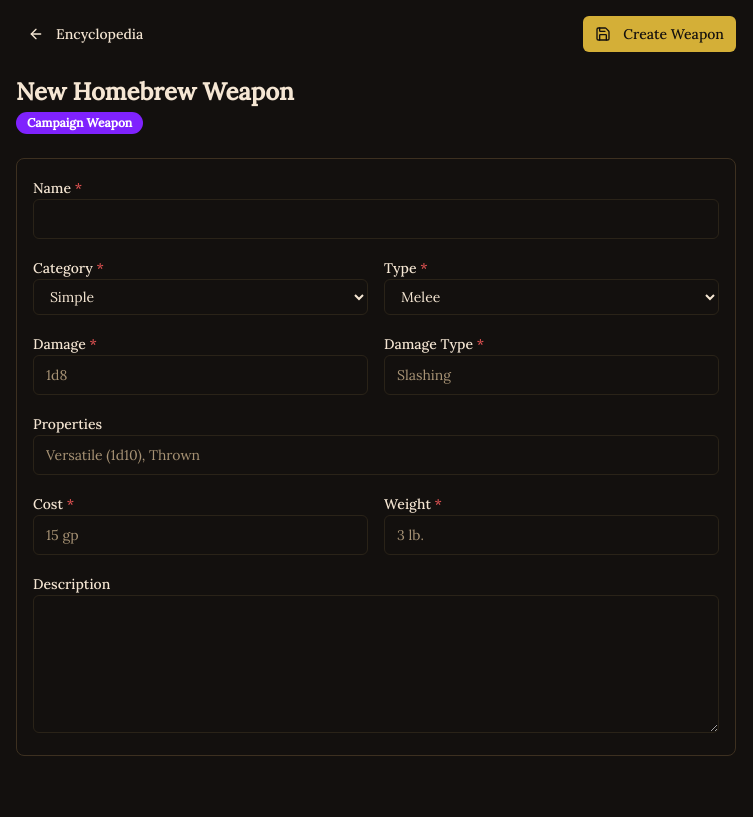
Test: ItemEditPage — new › blocks save when a required field is empty
This screenshot has width=753, height=817.
Step 1. Click the button with test id "save-item-btn" → coordinates (660, 34), box [583,16,736,52]
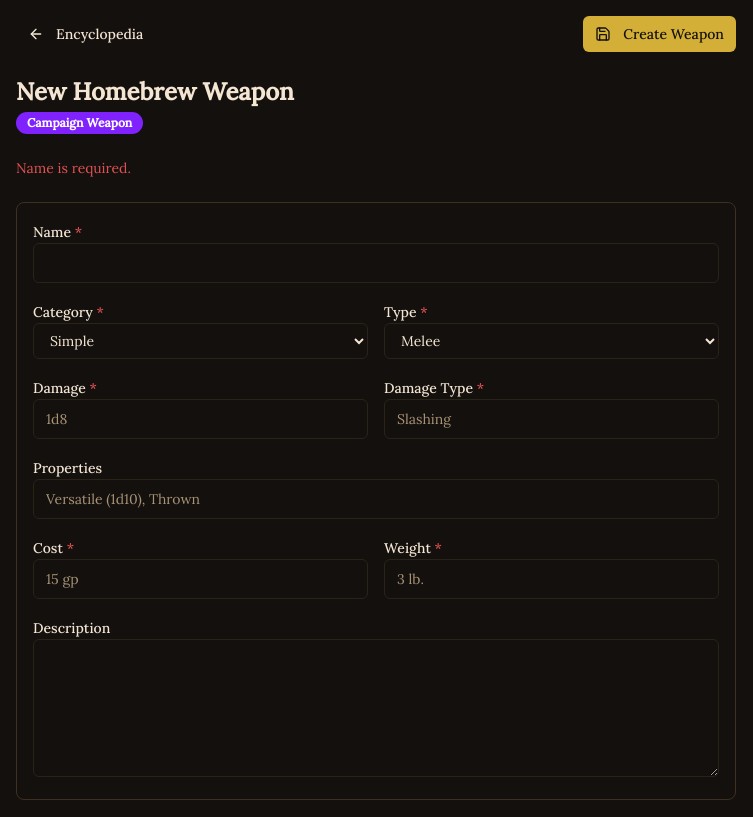
Expected: the text "Name is required." is shown, [16,159,131,177]
